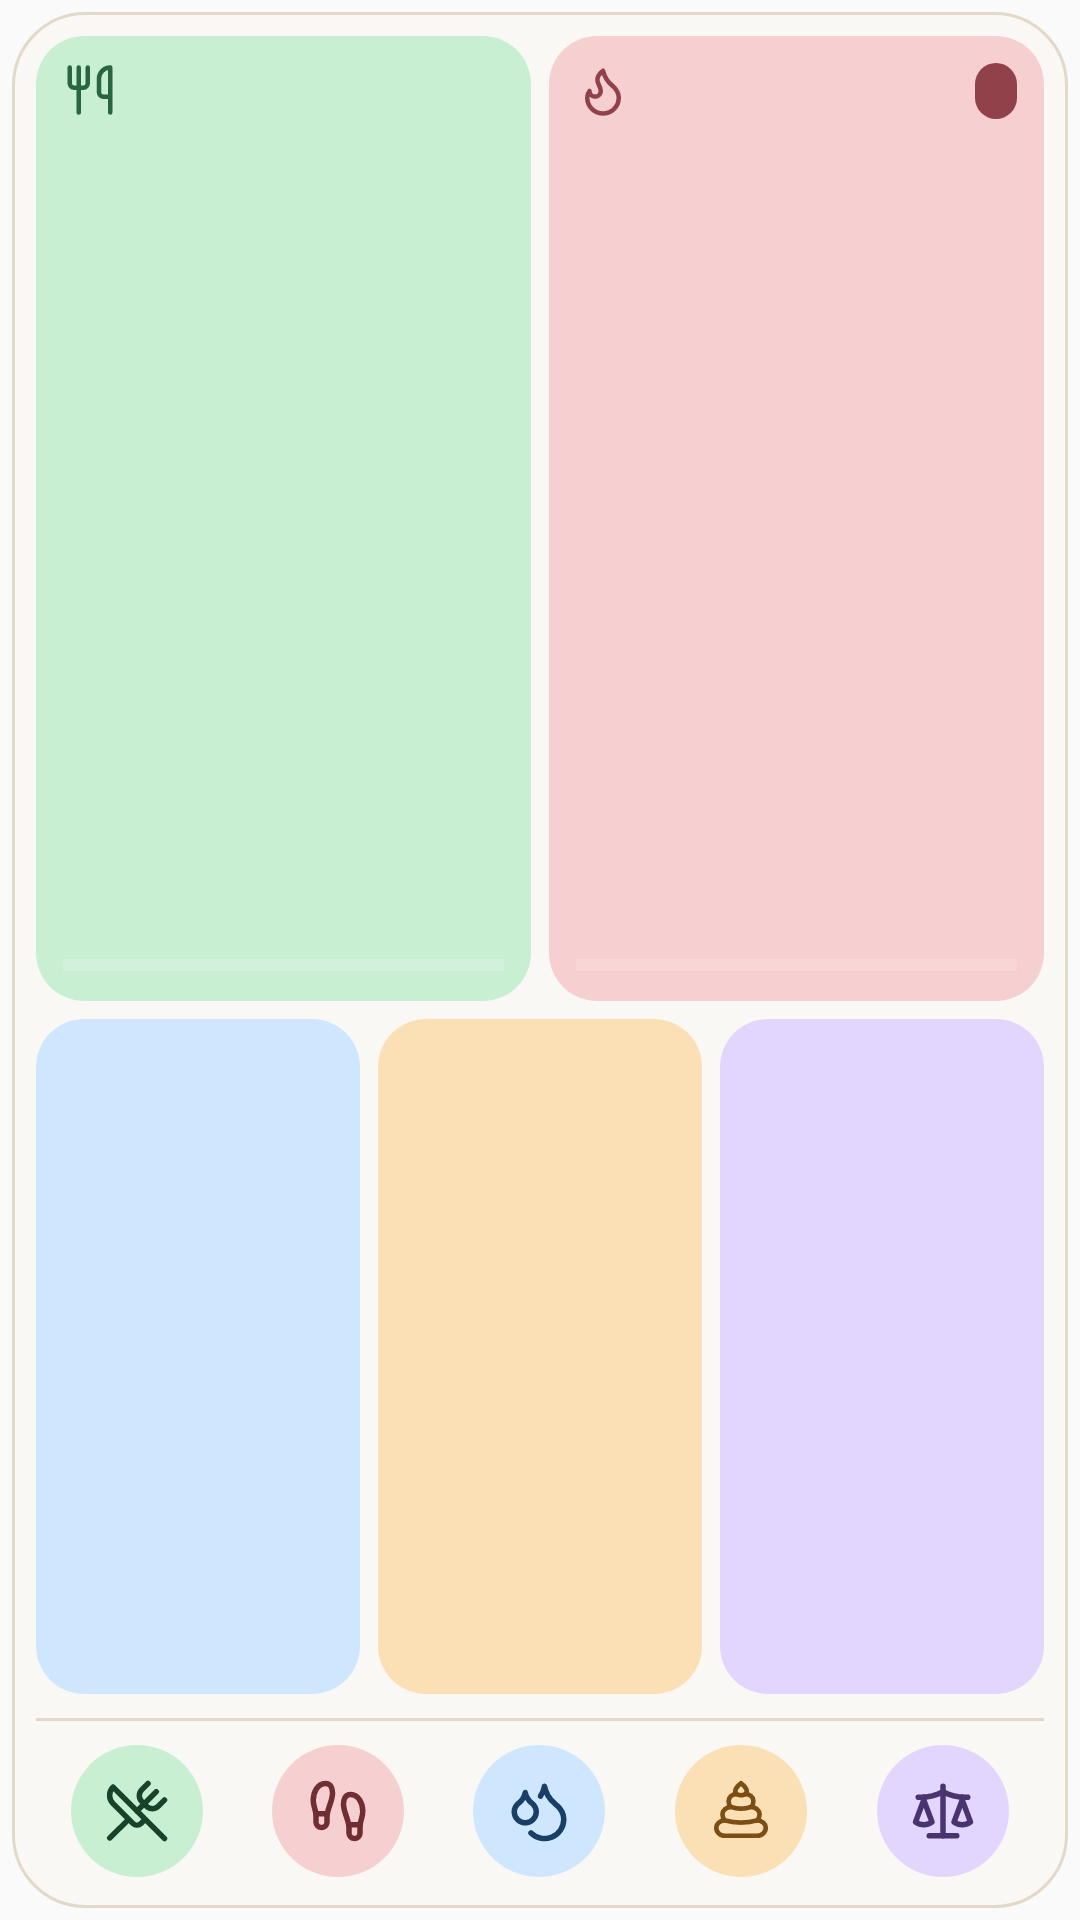

Named icons in this screenshot (1080w x 1920h) and their bounding boxes, {"left": x1, "top": y1, "right": x2, "bottom": y2}:
Food: {"left": 71, "top": 1745, "right": 203, "bottom": 1877}
Movement: {"left": 272, "top": 1745, "right": 404, "bottom": 1877}
Poop: {"left": 675, "top": 1745, "right": 807, "bottom": 1877}
Water: {"left": 473, "top": 1745, "right": 605, "bottom": 1877}
Weight: {"left": 877, "top": 1745, "right": 1009, "bottom": 1877}
widget burned: {"left": 585, "top": 68, "right": 621, "bottom": 116}
widget intake: {"left": 67, "top": 65, "right": 113, "bottom": 115}
